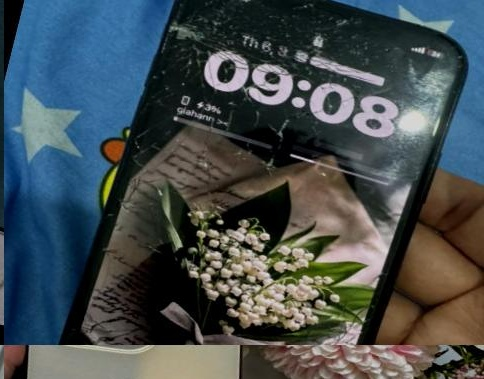physical_damage: (152, 0, 252, 88), (93, 210, 199, 272), (108, 158, 187, 229), (175, 122, 247, 183), (238, 137, 312, 195), (239, 14, 309, 71), (126, 109, 187, 174), (317, 295, 396, 345), (144, 73, 215, 127), (79, 250, 130, 322), (350, 264, 410, 325), (229, 56, 303, 105), (249, 98, 309, 151), (344, 66, 409, 114), (302, 110, 355, 162), (310, 0, 365, 50), (300, 40, 354, 90), (352, 34, 410, 80), (207, 87, 259, 135), (250, 0, 322, 31), (60, 313, 126, 345), (293, 80, 344, 116)
